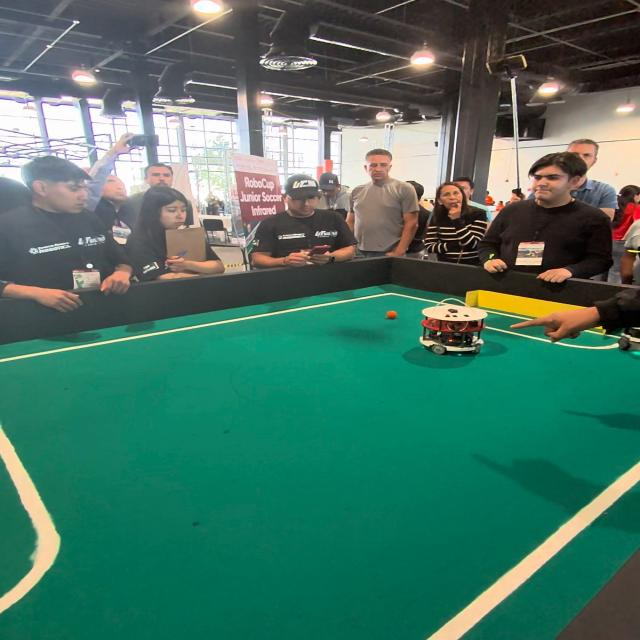Robot: (418, 296, 486, 364), (616, 321, 640, 356)
pelota: (387, 310, 398, 320)
